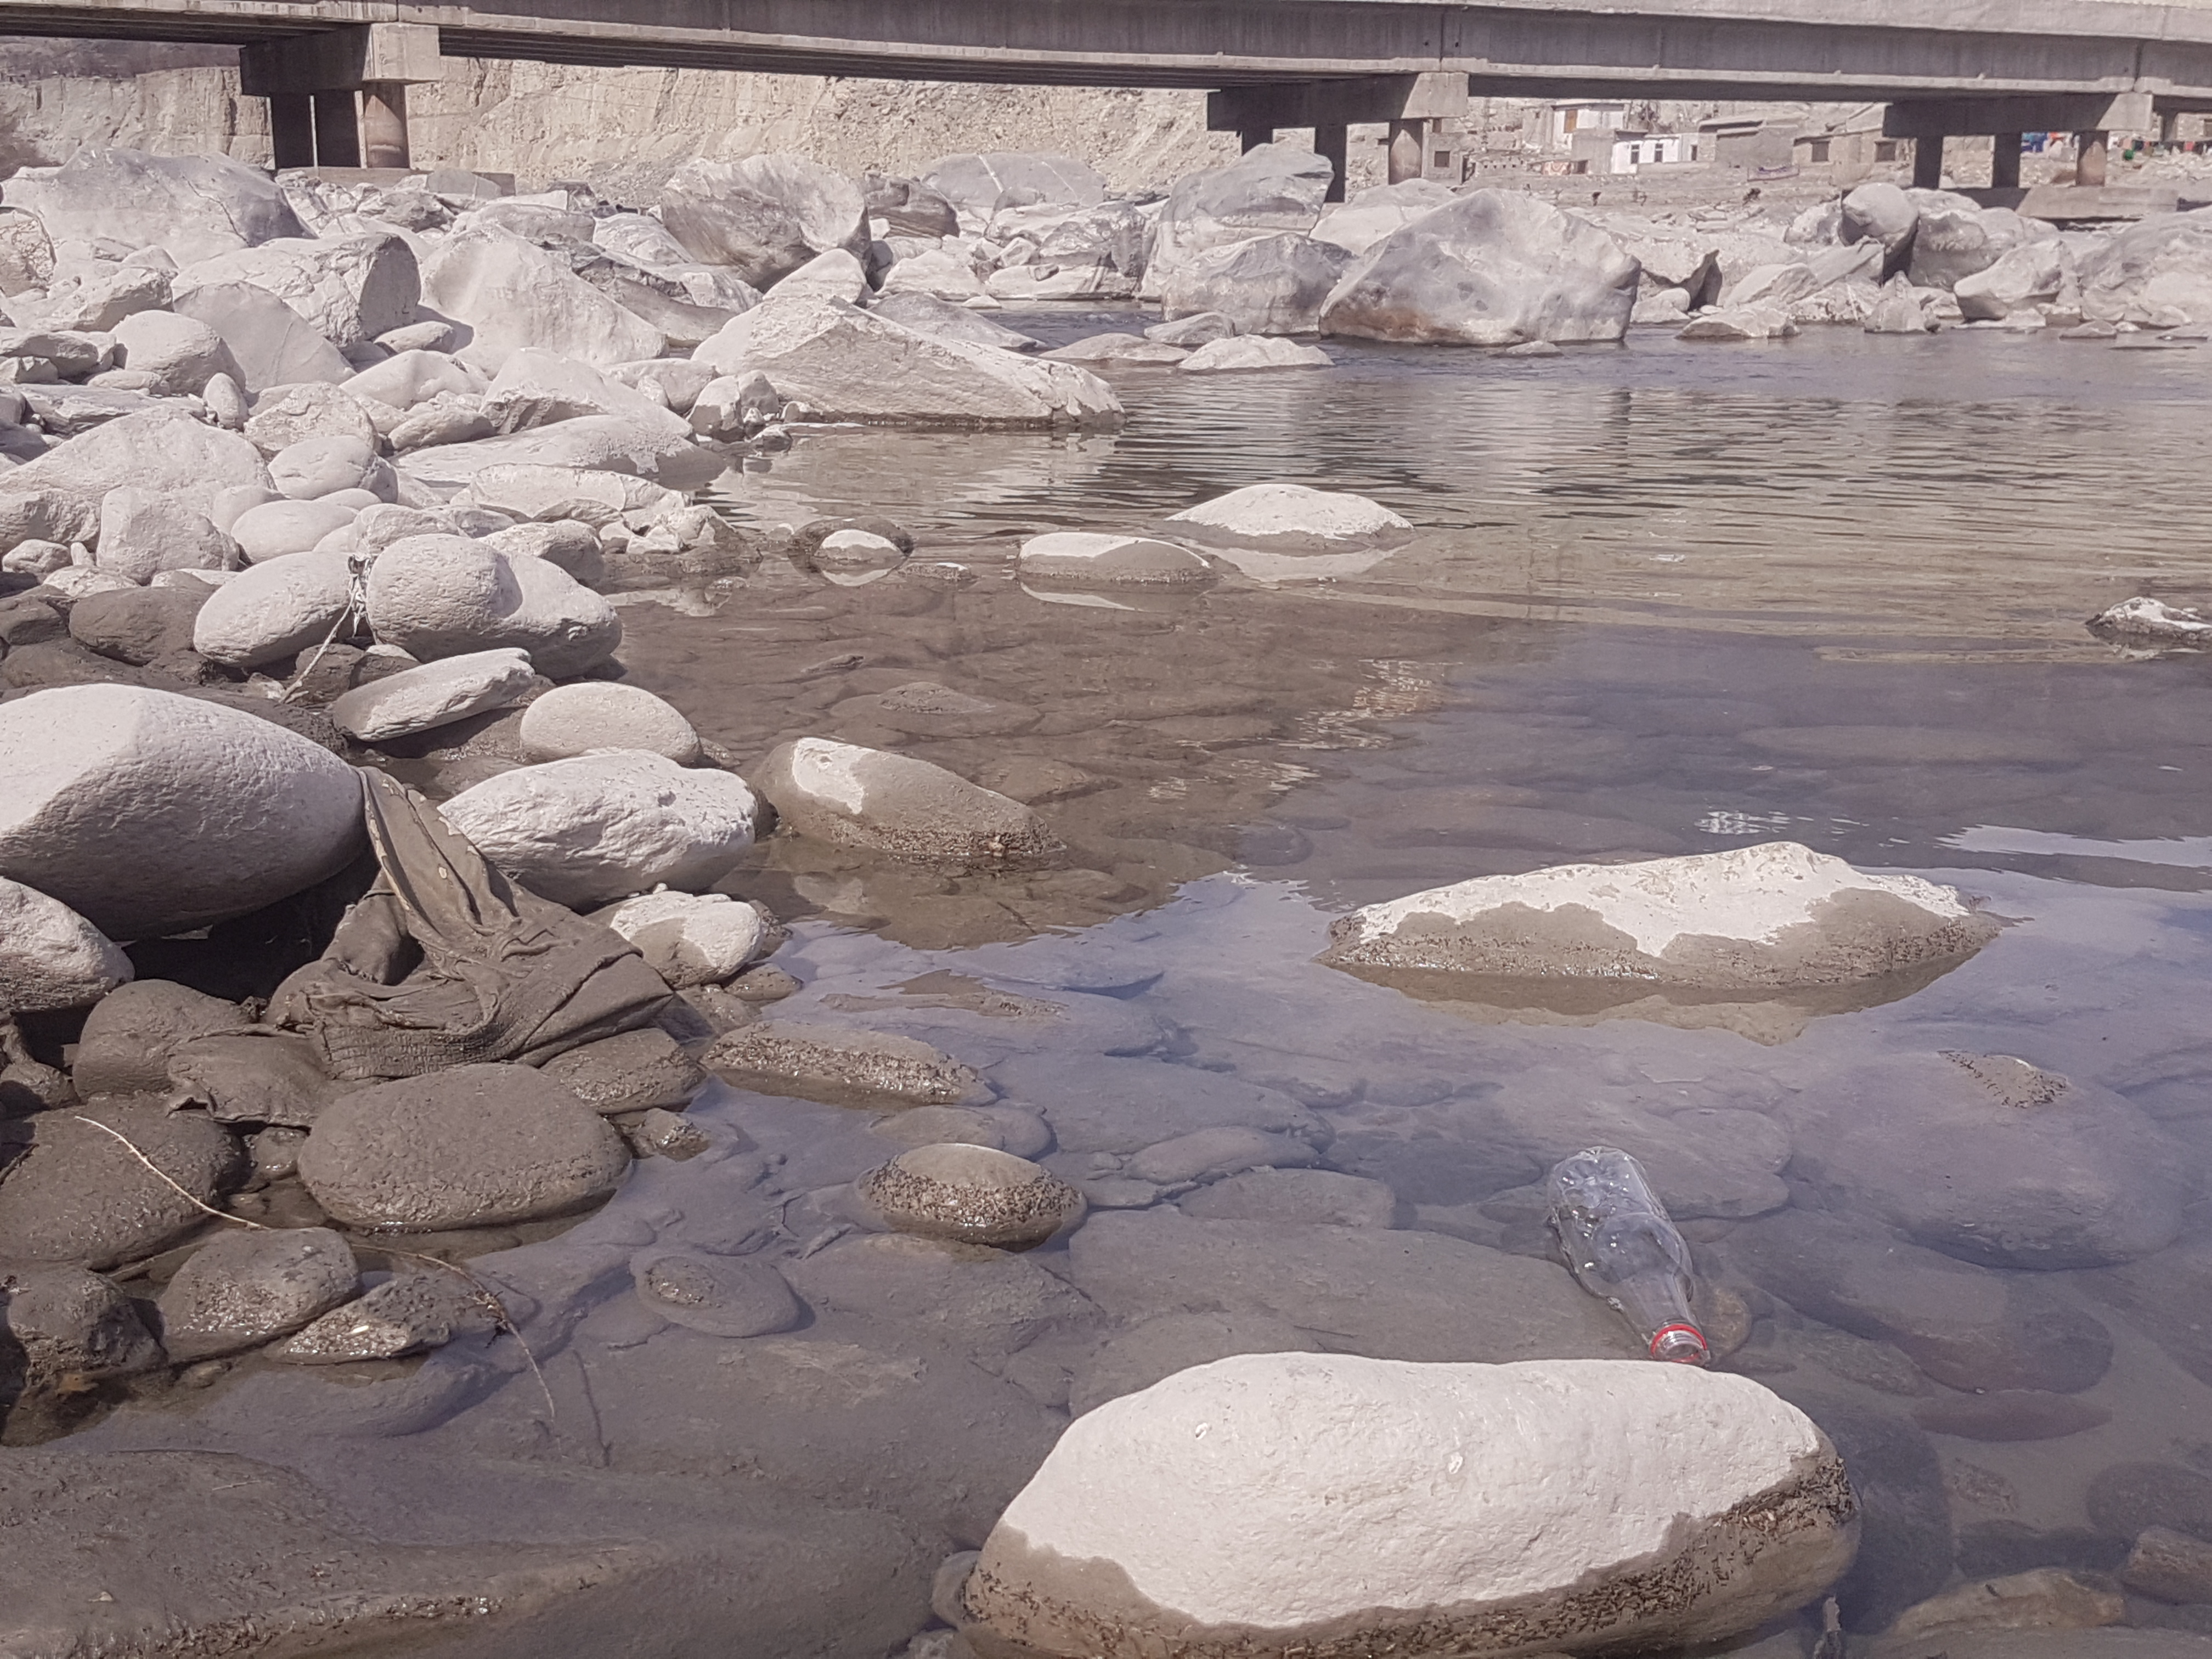Plastic Bottle: (1547, 1145, 1709, 1359)
